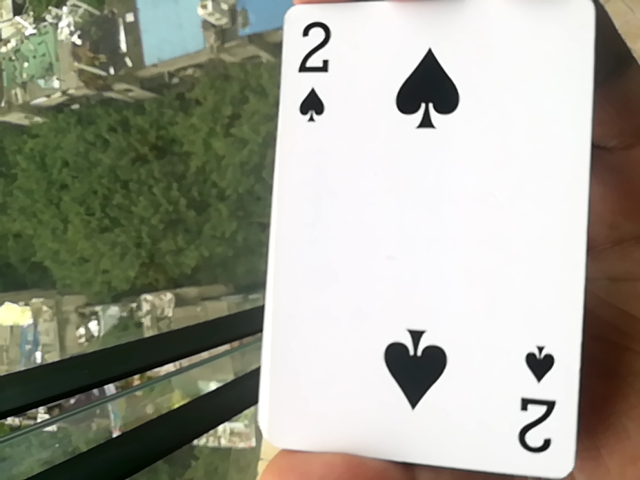ht 2: (247, 6, 606, 479)
